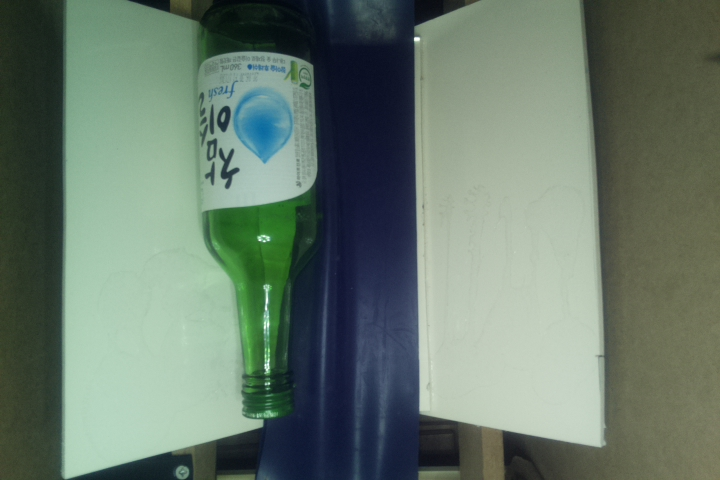soju: (193, 1, 331, 419)
